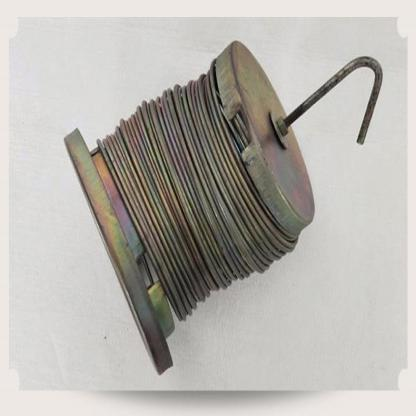FOD: (60, 39, 386, 382)
